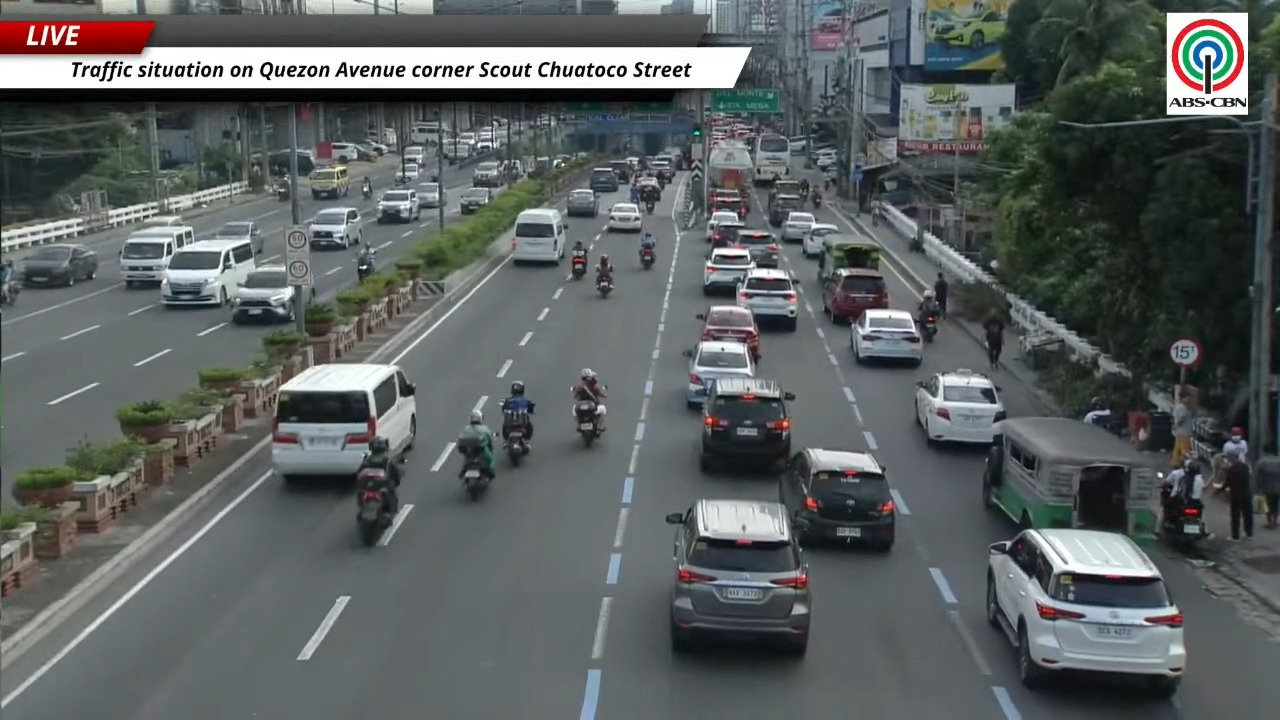bus: (753, 133, 791, 185)
car: (986, 529, 1186, 696), (666, 499, 811, 655), (271, 363, 416, 484), (779, 448, 896, 551), (699, 377, 793, 471), (915, 369, 1006, 444), (682, 341, 755, 408), (850, 309, 922, 366), (737, 267, 798, 331), (696, 305, 761, 363), (232, 265, 294, 323), (823, 268, 888, 323), (18, 243, 98, 286), (933, 11, 1005, 49), (703, 247, 753, 294), (308, 207, 361, 248), (730, 227, 780, 268), (212, 221, 263, 254), (376, 189, 421, 224), (309, 164, 349, 199), (802, 223, 839, 257), (781, 211, 815, 242), (710, 219, 746, 248), (606, 203, 642, 232), (706, 211, 739, 242), (709, 191, 746, 218), (566, 189, 598, 217), (460, 187, 492, 214), (472, 161, 502, 187), (588, 167, 619, 192), (417, 183, 447, 207), (331, 143, 359, 163), (650, 159, 674, 182), (637, 176, 661, 199), (609, 160, 633, 182), (395, 163, 420, 183), (402, 146, 426, 166), (815, 149, 837, 169), (355, 144, 380, 161), (364, 139, 389, 154)
motorcycle: (1160, 484, 1205, 551), (357, 468, 391, 546), (457, 438, 490, 500), (504, 411, 529, 466), (575, 400, 599, 446), (357, 252, 375, 282), (0, 280, 19, 306), (921, 313, 937, 342), (596, 275, 613, 298), (639, 247, 655, 269), (571, 256, 586, 279), (274, 181, 290, 200), (812, 194, 822, 210), (362, 185, 372, 200), (645, 201, 655, 214)
truck: (707, 141, 753, 202)
